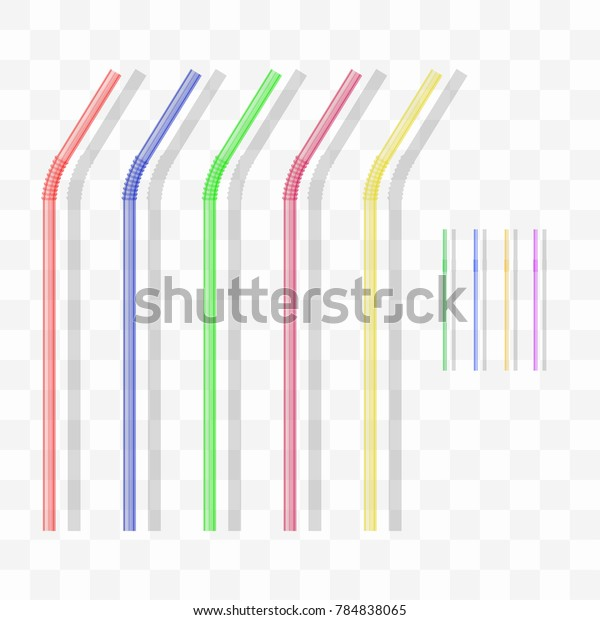Drinking Straw: (36, 67, 125, 534)
